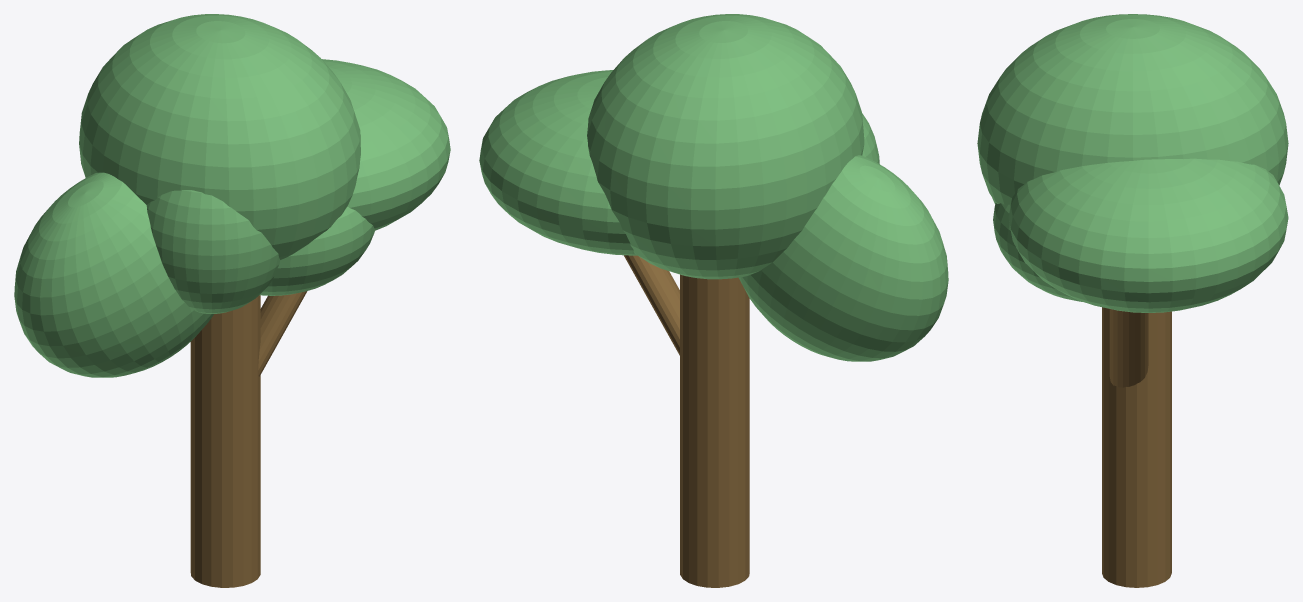
The model's file is Tree - Sample 1.glb.
3 views of the same model, side by side, from view 1: azimuth 30°, elevation 25°; view 2: azimuth 150°, elevation 25°; view 3: azimuth 270°, elevation 25° (orthographic).
Visible parts, largest first — view 1: Mesh_Mesh_head_geo.001_lambert2SG.001; view 2: Mesh_Mesh_head_geo.001_lambert2SG.001; view 3: Mesh_Mesh_head_geo.001_lambert2SG.001.
Boxes of the visible parts, x1,y1,x2,y2 form: Mesh_Mesh_head_geo.001_lambert2SG.001: (14,14,450,587); Mesh_Mesh_head_geo.001_lambert2SG.001: (479,14,948,587); Mesh_Mesh_head_geo.001_lambert2SG.001: (977,14,1288,587).
Size of the model in its own units: 63.27 by 77 by 40.
